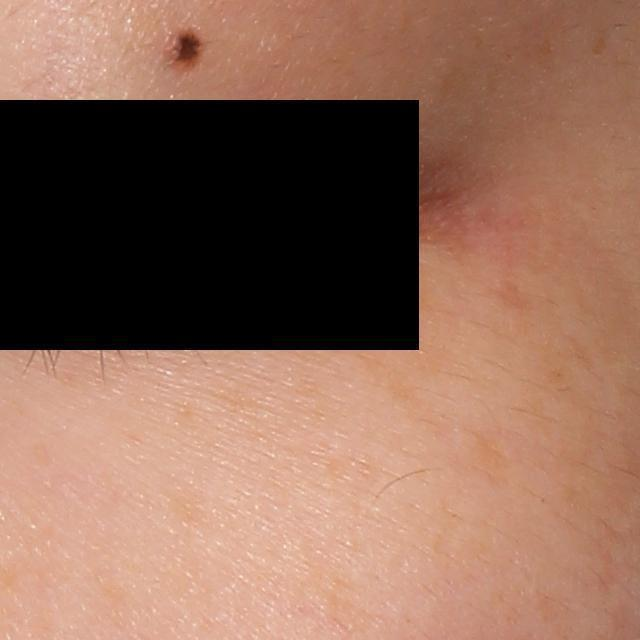melasma: (349, 339, 454, 443), (379, 283, 453, 381), (294, 557, 368, 627), (526, 331, 603, 392), (158, 478, 210, 526), (465, 423, 508, 479), (585, 26, 613, 61)
nevus: (173, 31, 201, 67)
